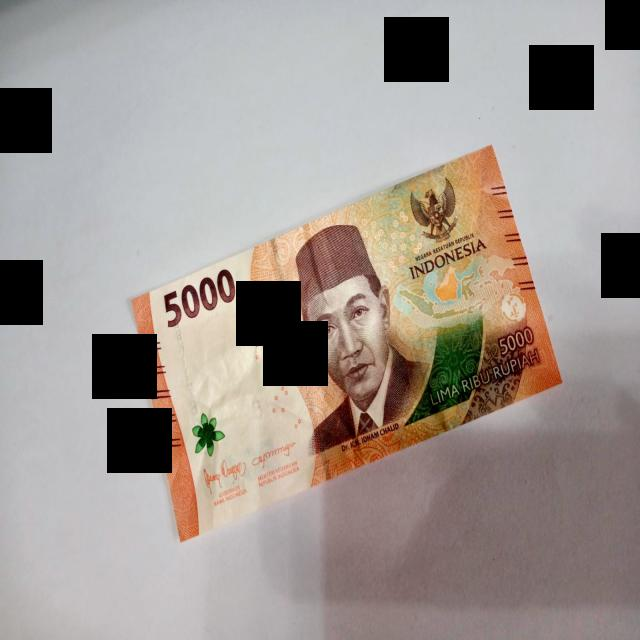lima ribu rupiah: (132, 147, 561, 539)
